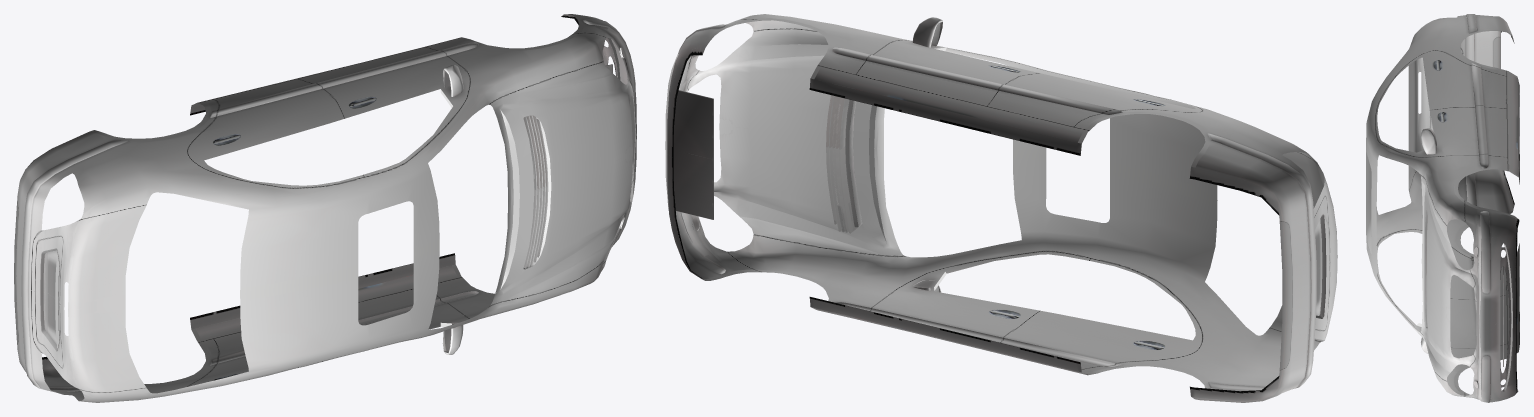
The model's file is body.obj.
The picture shows the model from 3 angles, left to right: view 1: azimuth 30°, elevation 25°; view 2: azimuth 150°, elevation 25°; view 3: azimuth 270°, elevation 25°; orthographic projection. The views are drawn at different scales.
Parts seen in each view (by area): view 1: baked; view 2: baked; view 3: baked.
Part boxes in pixels (bbox=[...]): baked: bbox=[14, 14, 636, 402]; baked: bbox=[665, 14, 1337, 402]; baked: bbox=[1366, 14, 1519, 402].
Bounding box in the file's own units: 4.53 × 2.01 × 1.25.
Materials: 1 (1 with a texture image).
